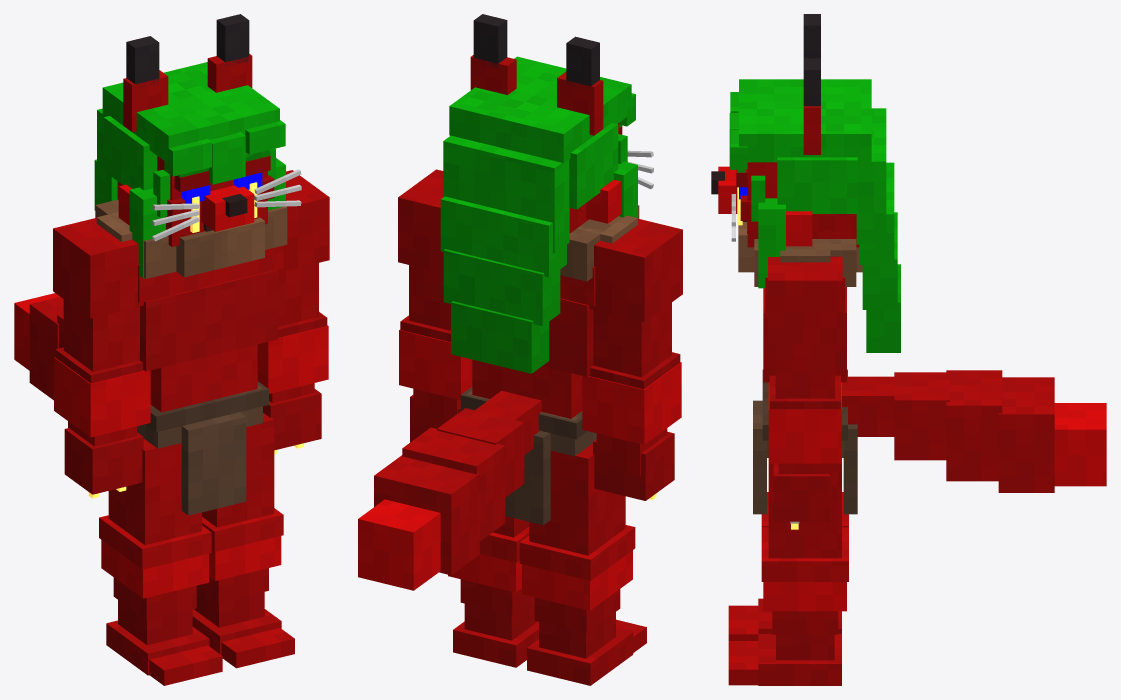
Rendered from beastfolk_s2_evo2.glb.
3 views of the same model, side by side, from view 1: azimuth 30°, elevation 25°; view 2: azimuth 150°, elevation 25°; view 3: azimuth 270°, elevation 25° (orthographic). The views are drawn at different scales.
Parts seen in each view (by area): view 1: Torso, Head, ArmR, LegR, LegL, ArmL; view 2: Head, Torso, ArmR, LegR, ArmL, LegL; view 3: Head, Torso, ArmL, LegL, LegR.
Part boxes in pixels (x1,y1,x2,y2): Torso: (14,199,287,515); Head: (94,14,301,278); ArmR: (53,218,150,498); LegR: (99,439,222,685); LegL: (192,413,294,668); ArmL: (257,170,329,454); Head: (440,14,653,373); Torso: (358,195,639,590); ArmR: (582,218,682,500); LegR: (519,443,646,685); ArmL: (398,169,472,442); LegL: (448,516,538,667); Head: (711,14,900,352); Torso: (738,222,1106,514); ArmL: (768,256,842,529); LegL: (728,463,848,685); LegR: (728,492,848,640).
Bounding box in the file's own units: 0.797 × 1.93 × 1.14.
Materials: 29 (29 with a texture image).
